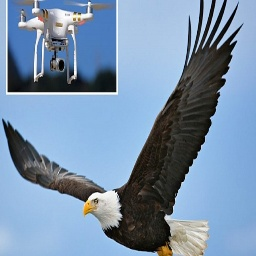Bird: (5, 3, 247, 256), (10, 0, 111, 80)
